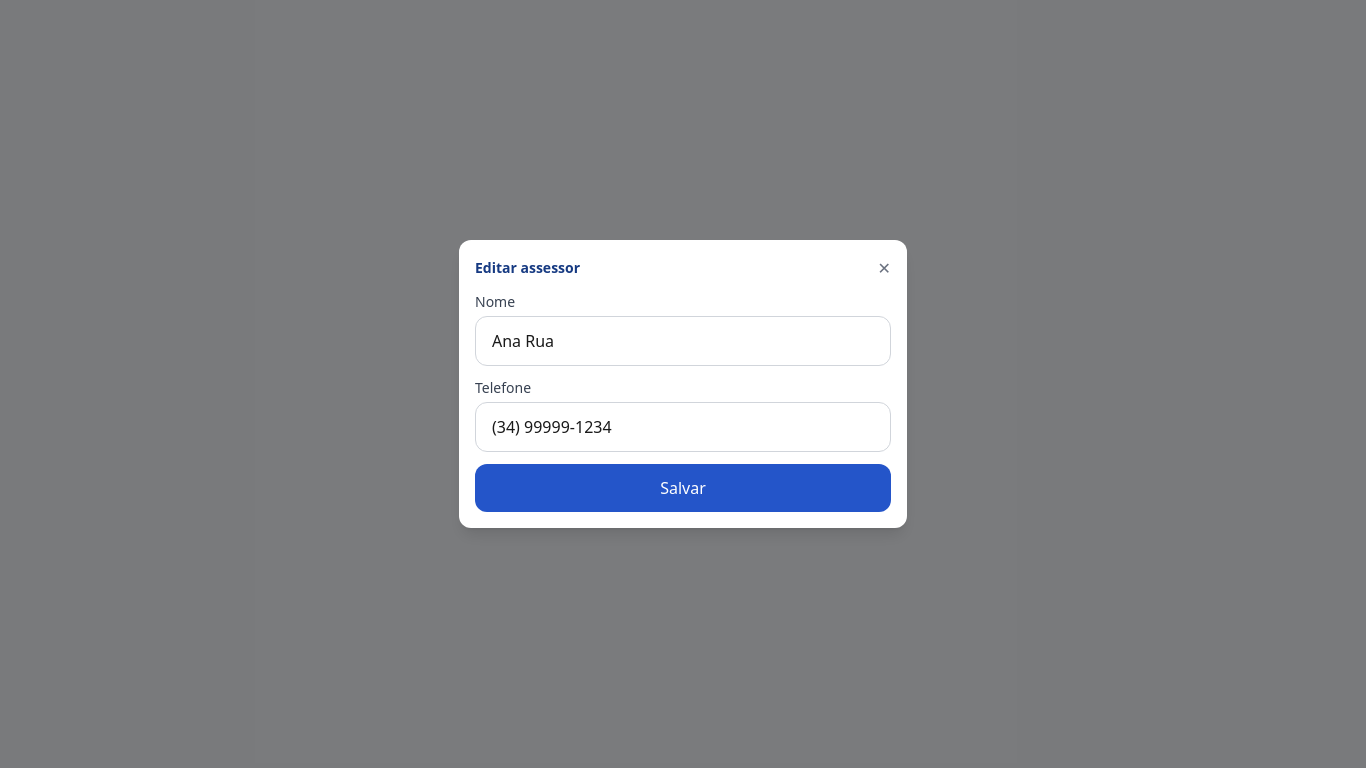
ModalAssessor (editar) › mostra a mensagem de erro da API quando salvar falha
Step 1. Click the button "Salvar" → {"x": 683, "y": 488}, box x1=475 y1=464 x2=891 y2=512
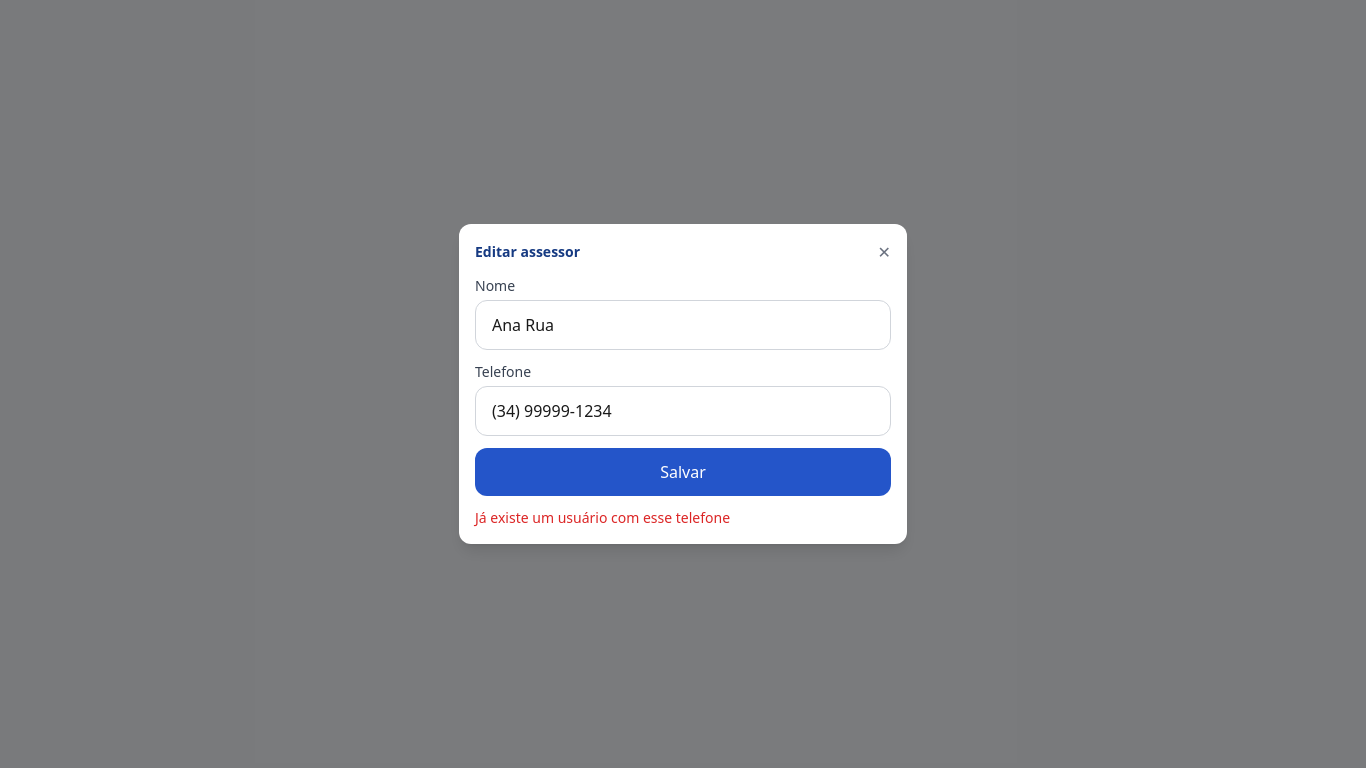
Check: the text "Já existe um usuário com esse telefone" is shown, box x1=475 y1=508 x2=730 y2=527
